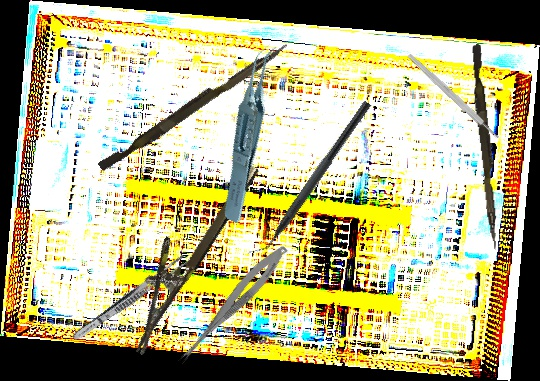Chopper: (246, 93, 372, 265)
Dressing Forceps: (70, 252, 189, 345)
Micro Scissor: (173, 239, 293, 372)
Needle Holder: (104, 147, 263, 356)
Pusher: (97, 35, 290, 177), (466, 43, 506, 251)
Scalpel Handle: (406, 51, 501, 142)
Tissue Forceps: (189, 40, 314, 225)
